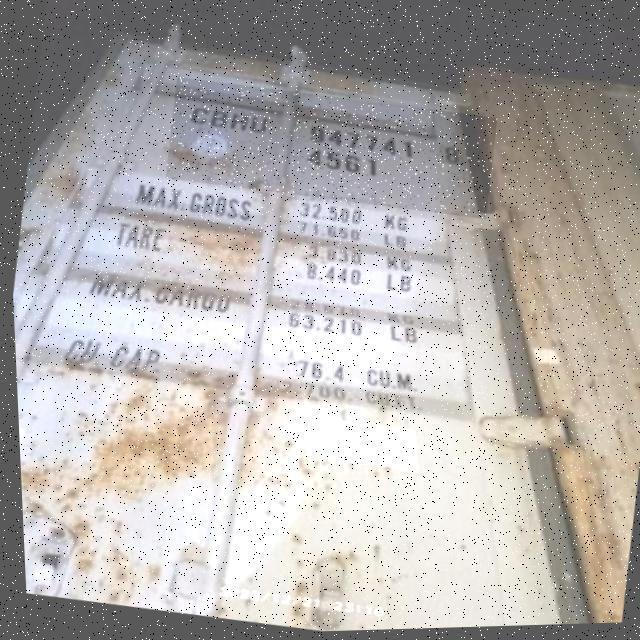container_number_h: (161, 72, 500, 230)
